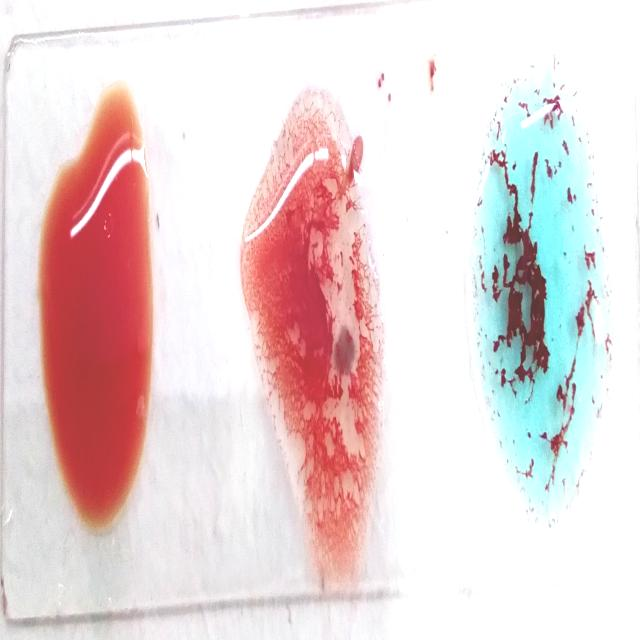A: (465, 35, 613, 538)
D: (246, 110, 384, 564)
